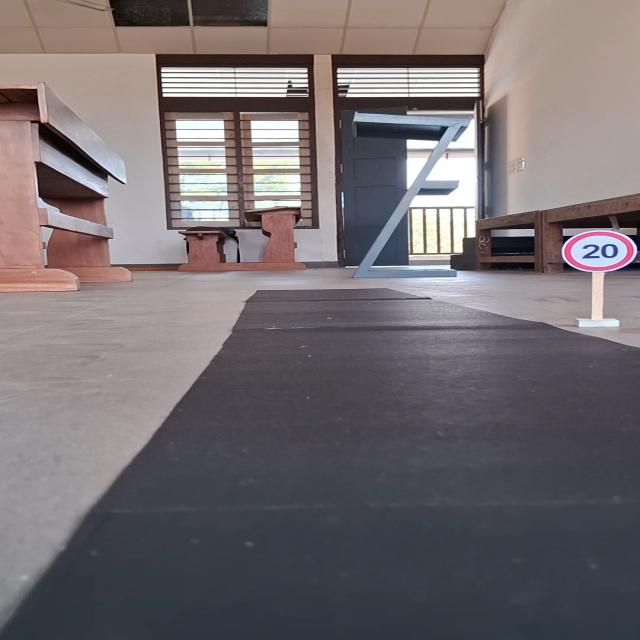Speed20: (558, 226, 639, 276)
